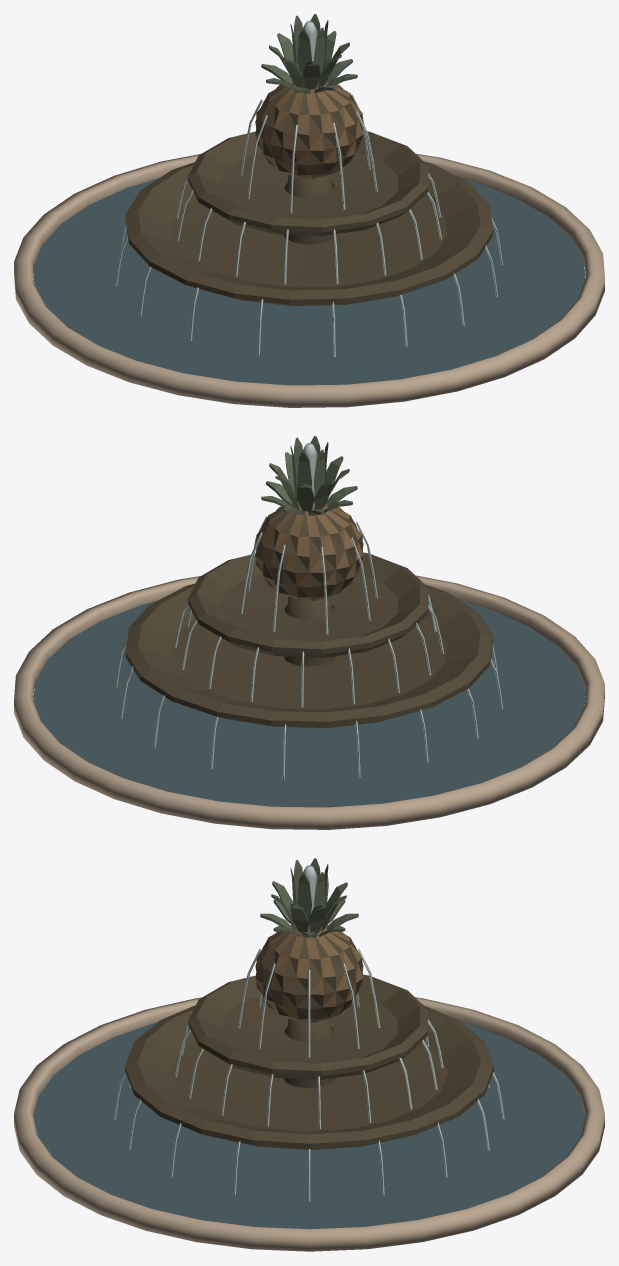
File: pineapple-fountain-charleston-far.glb
3 renders of one model, top to bottom at view 1: azimuth 30°, elevation 25°; view 2: azimuth 150°, elevation 25°; view 3: azimuth 270°, elevation 25°, orthographic.
Parts seen in each view (by area): view 1: pineapple-fountain-charleston-0-pool, pineapple-fountain-charleston-0-bronze, pineapple-fountain-charleston-0-basin, pineapple-fountain-charleston-0-water, pineapple-fountain-charleston-0-fruit, pineapple-fountain-charleston-0-patina; view 2: pineapple-fountain-charleston-0-pool, pineapple-fountain-charleston-0-bronze, pineapple-fountain-charleston-0-basin, pineapple-fountain-charleston-0-water, pineapple-fountain-charleston-0-fruit, pineapple-fountain-charleston-0-patina; view 3: pineapple-fountain-charleston-0-pool, pineapple-fountain-charleston-0-bronze, pineapple-fountain-charleston-0-basin, pineapple-fountain-charleston-0-water, pineapple-fountain-charleston-0-fruit, pineapple-fountain-charleston-0-patina.
Part boxes in pixels (x1,y1,x2,y2): pineapple-fountain-charleston-0-pool: (33,178,585,385); pineapple-fountain-charleston-0-bronze: (125,82,493,305); pineapple-fountain-charleston-0-basin: (14,153,604,407); pineapple-fountain-charleston-0-water: (115,21,503,357); pineapple-fountain-charleston-0-fruit: (255,82,363,178); pineapple-fountain-charleston-0-patina: (261,14,357,93); pineapple-fountain-charleston-0-pool: (33,600,585,807); pineapple-fountain-charleston-0-bronze: (125,504,493,727); pineapple-fountain-charleston-0-basin: (14,575,604,829); pineapple-fountain-charleston-0-water: (115,443,503,779); pineapple-fountain-charleston-0-fruit: (255,501,363,600); pineapple-fountain-charleston-0-patina: (261,436,357,515); pineapple-fountain-charleston-0-pool: (33,1022,585,1229); pineapple-fountain-charleston-0-bronze: (125,925,493,1149); pineapple-fountain-charleston-0-basin: (14,997,604,1251); pineapple-fountain-charleston-0-water: (114,865,504,1201); pineapple-fountain-charleston-0-fruit: (255,925,363,1022); pineapple-fountain-charleston-0-patina: (260,858,358,937).
Bounding box in the file's own units: 10.56 × 5.14 × 10.56.
